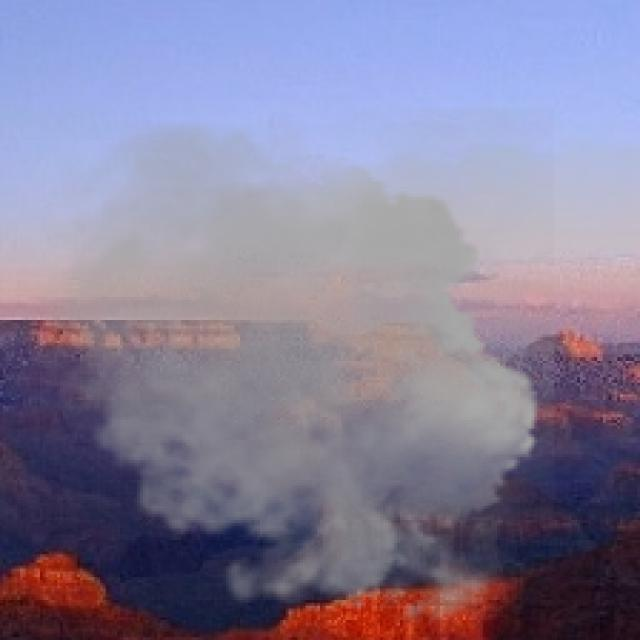smoke: (17, 109, 557, 637)
